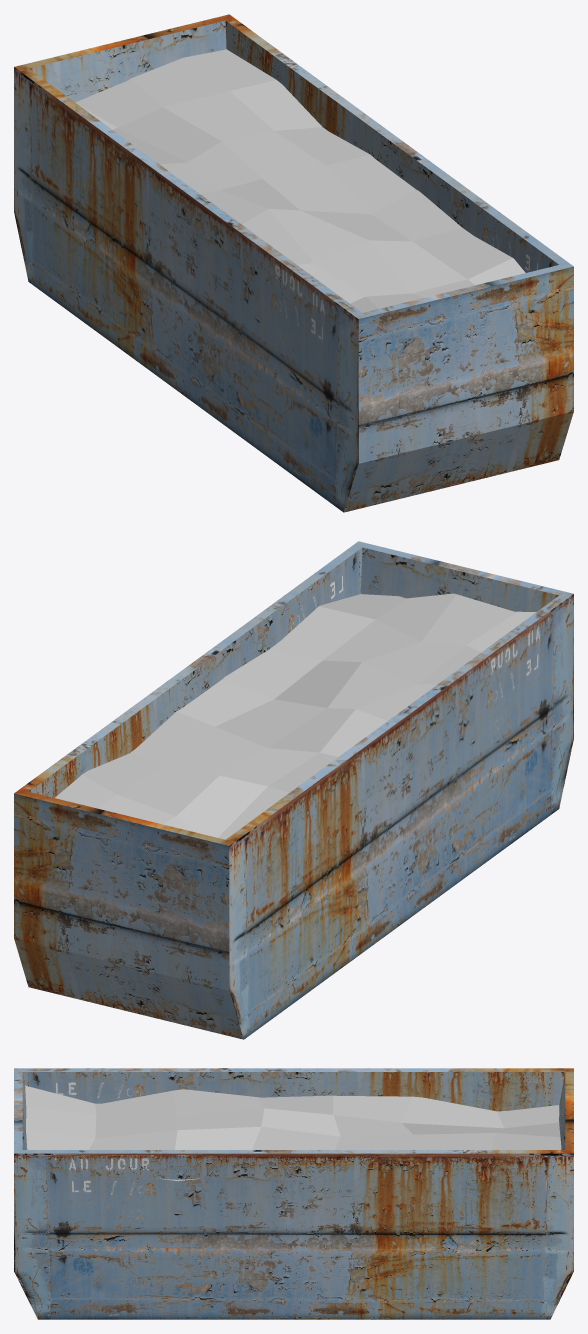
The model's file is trash.fbx.
3 views of the same model, one above another, from view 1: azimuth 30°, elevation 25°; view 2: azimuth 150°, elevation 25°; view 3: azimuth 270°, elevation 25° (orthographic). The views are drawn at different scales.
Visible parts, largest first — view 1: TexturesCom_MetalRusted0117_1_M; view 2: TexturesCom_MetalRusted0117_1_M; view 3: TexturesCom_MetalRusted0117_1_M.
Part boxes in pixels (box(x1,y1,x2,y2)): TexturesCom_MetalRusted0117_1_M: box(14, 14, 573, 512); TexturesCom_MetalRusted0117_1_M: box(14, 541, 573, 1039); TexturesCom_MetalRusted0117_1_M: box(14, 1068, 573, 1319).
Bounding box in the file's own units: 332 × 296 × 905.
